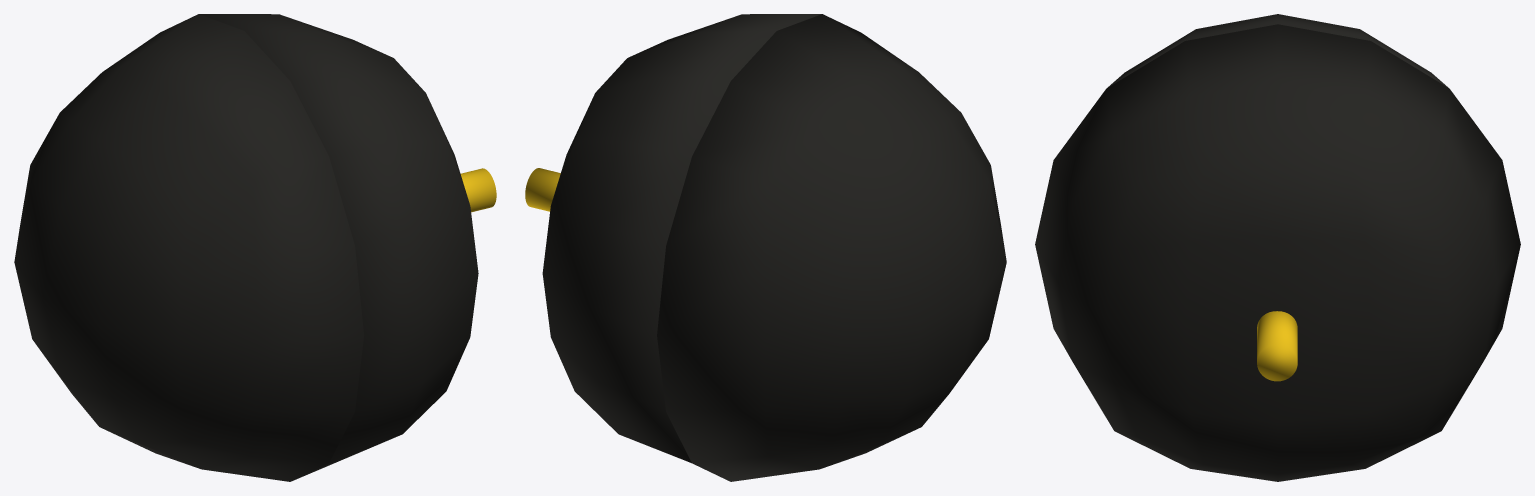
File: bomb.fbx
3 renders of one model, left to right at view 1: azimuth 30°, elevation 25°; view 2: azimuth 150°, elevation 25°; view 3: azimuth 270°, elevation 25°, orthographic.
Parts seen in each view (by area): view 1: Cube, Cube.002, Cylinder; view 2: Cube, Cube.002, Cylinder; view 3: Cube.002, Cube, Cylinder.
Part boxes in pixels (box(x1,y1,x2,y2)): Cube: box(14, 14, 364, 481); Cube.002: box(199, 14, 478, 480); Cylinder: box(460, 168, 496, 212); Cube: box(657, 14, 1006, 481); Cube.002: box(542, 14, 821, 463); Cylinder: box(525, 168, 560, 211); Cube.002: box(1035, 24, 1520, 481); Cube: box(1107, 14, 1448, 87); Cylinder: box(1257, 311, 1297, 381).
Size of the model in its own units: 371 by 346 by 346.
